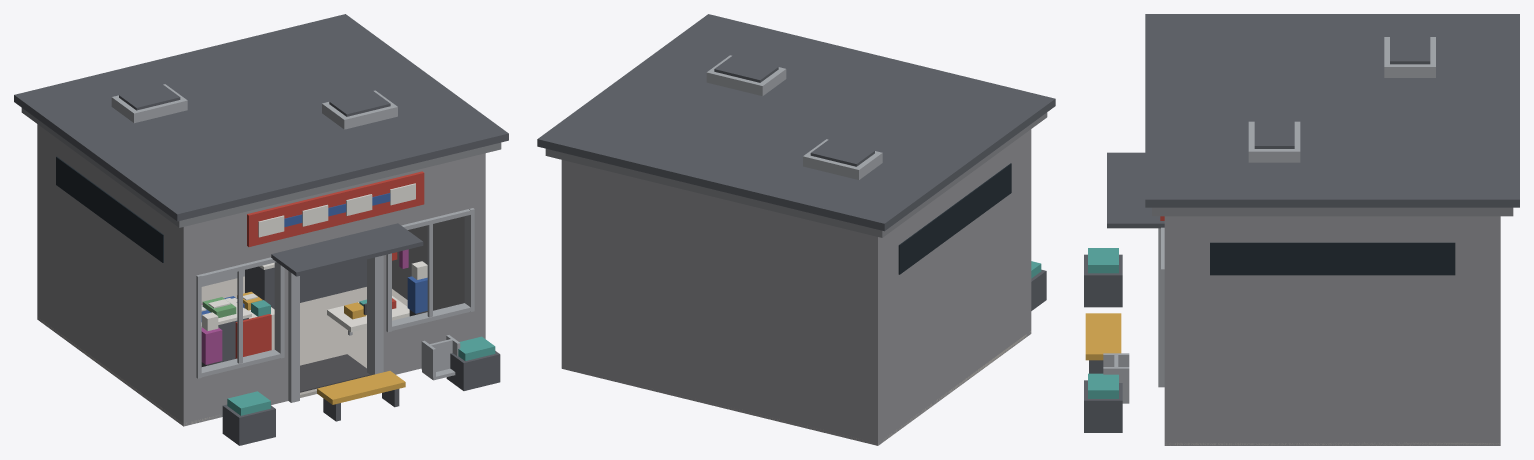
File: rv_mall.gltf
3 renders of one model, left to right at view 1: azimuth 30°, elevation 25°; view 2: azimuth 150°, elevation 25°; view 3: azimuth 270°, elevation 25°, orthographic. The views are drawn at different scales.
Visible parts, largest first — view 1: RV_Mall; view 2: RV_Mall; view 3: RV_Mall.
Part boxes in pixels (box(x1,y1,x2,y2)): RV_Mall: box(14, 14, 508, 445); RV_Mall: box(537, 14, 1055, 445); RV_Mall: box(1084, 14, 1519, 445).
Size of the model in its own units: 6.8 by 5.2 by 6.75.
